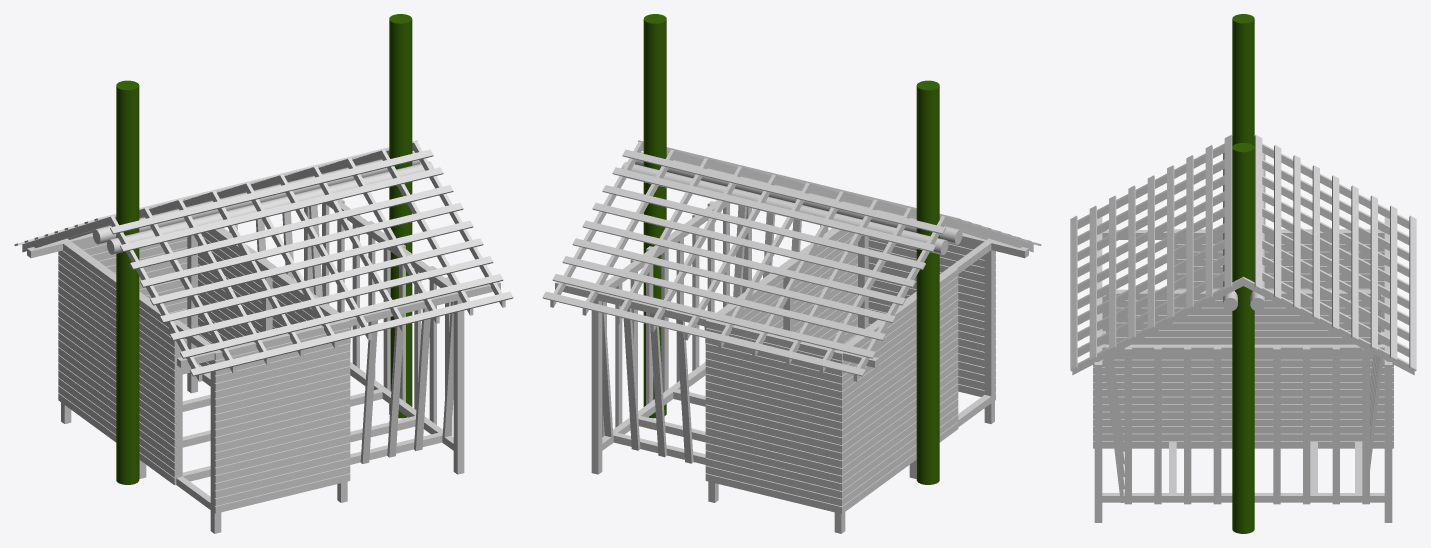
The model's file is sennik.dae.
The picture shows the model from 3 angles, left to right: view 1: azimuth 30°, elevation 25°; view 2: azimuth 150°, elevation 25°; view 3: azimuth 270°, elevation 25°; orthographic projection. The views are drawn at different scales.
Visible parts, largest first — view 1: krokva (×10), group_37, group_26, group_19, group_17, group_20, group_23, group_18, group_22, group_24, group_25, group_21 (+64 smaller); view 2: krokva (×10), group_37, group_26, group_10, group_8, group_11, group_14, group_9, group_13, group_15, group_16, group_12 (+62 smaller); view 3: krokva (×10), group_26, group_37, group_29, group_127, group_103, group_116, group_104, group_105, group_106, group_107, group_108 (+54 smaller).
Boxes of the visible parts, x1,y1,x2,y2 form: krokva (×10): (22, 142, 505, 381); group_37: (116, 80, 139, 484); group_26: (389, 14, 412, 418); group_19: (130, 185, 453, 269); group_17: (110, 149, 433, 234); group_20: (140, 203, 463, 287); group_23: (170, 256, 493, 340); group_18: (120, 167, 443, 252); group_22: (160, 238, 483, 323); group_24: (180, 274, 503, 358); group_25: (189, 291, 513, 376); group_21: (150, 220, 473, 305); krokva (×10): (550, 142, 1033, 381); group_37: (916, 80, 939, 484); group_26: (643, 14, 666, 418); group_10: (602, 185, 925, 269); group_8: (622, 149, 945, 234); group_11: (592, 203, 915, 287); group_14: (562, 256, 885, 340); group_9: (612, 167, 935, 252); group_13: (572, 238, 895, 323); group_15: (552, 274, 875, 358); group_16: (542, 291, 866, 376); group_12: (582, 220, 905, 305); krokva (×10): (1072, 143, 1414, 375); group_26: (1232, 143, 1254, 533); group_37: (1232, 14, 1254, 146); group_29: (1102, 344, 1384, 354); group_127: (1102, 493, 1384, 502); group_103: (1093, 433, 1393, 441); group_116: (1116, 337, 1370, 344); group_104: (1093, 426, 1393, 433); group_105: (1093, 419, 1393, 426); group_106: (1093, 411, 1393, 418); group_107: (1093, 404, 1393, 411); group_108: (1093, 396, 1393, 403).
Bounding box in the file's own units: 189 × 183 × 223.
